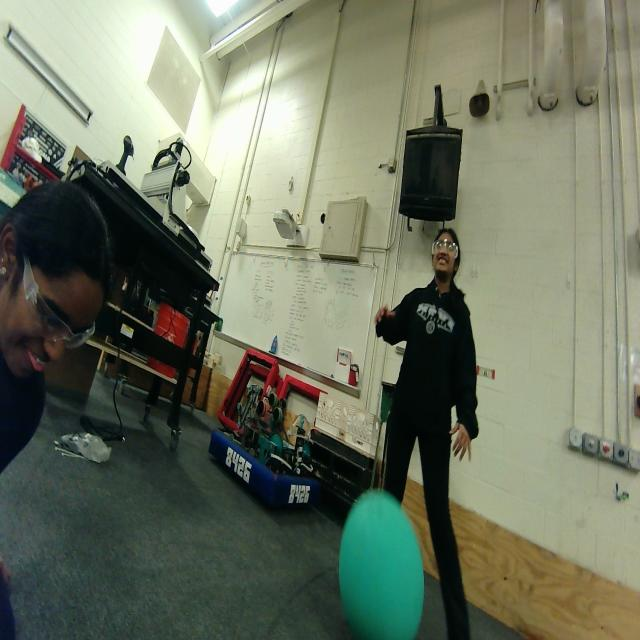algae: (338, 490, 424, 640)
